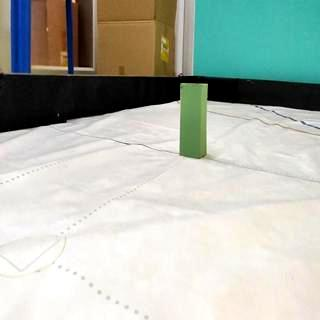greenbox: (180, 82, 209, 160)
